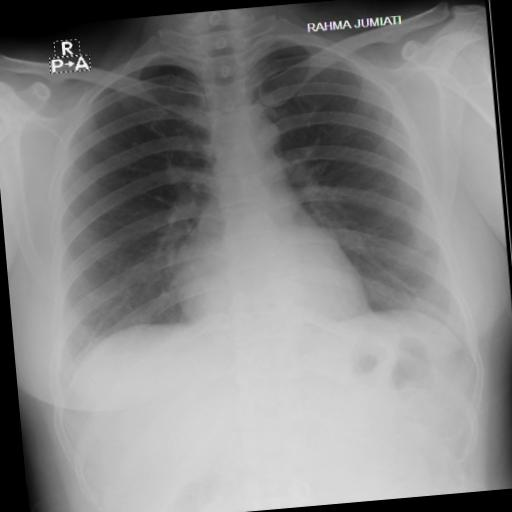normal: (22, 8, 478, 401)
